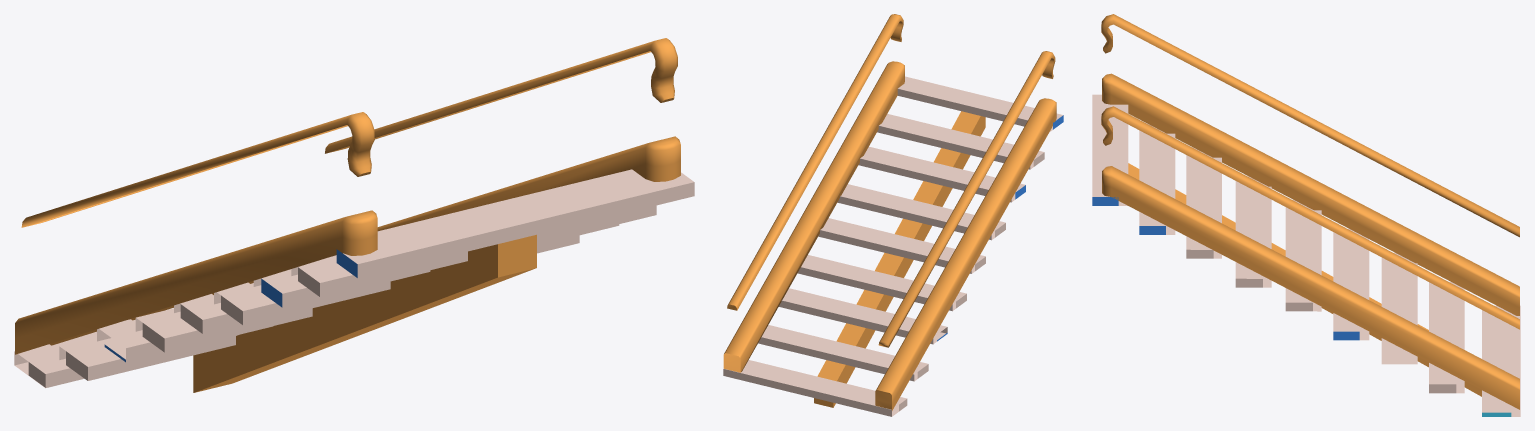
The model's file is Up Stairs.fbx.
The picture shows the model from 3 angles, left to right: view 1: azimuth 30°, elevation 25°; view 2: azimuth 150°, elevation 25°; view 3: azimuth 270°, elevation 25°; orthographic projection. The views are drawn at different scales.
Parts seen in each view (by area): view 1: Stairscollege; view 2: Stairscollege; view 3: Stairscollege.
Part boxes in pixels (box(x1,y1,x2,y2)): Stairscollege: box(14, 38, 694, 392); Stairscollege: box(723, 14, 1063, 416); Stairscollege: box(1092, 14, 1520, 416).
Size of the model in its own units: 250 by 374 by 441.
